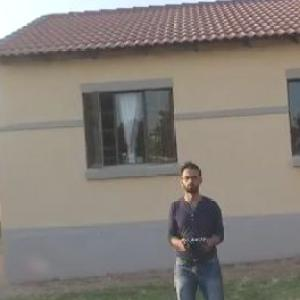follow: (166, 157, 239, 299)
